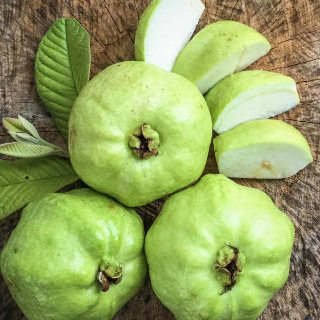oi: (68, 60, 209, 207), (147, 180, 293, 320), (3, 189, 147, 320)
